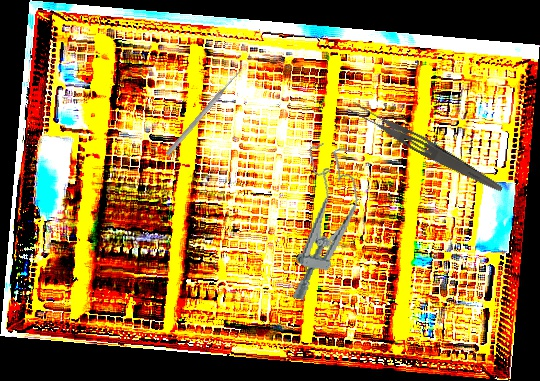Dressing Forceps: (345, 98, 508, 196)
Pusher: (164, 67, 244, 158)
Speculum: (280, 140, 368, 307)
